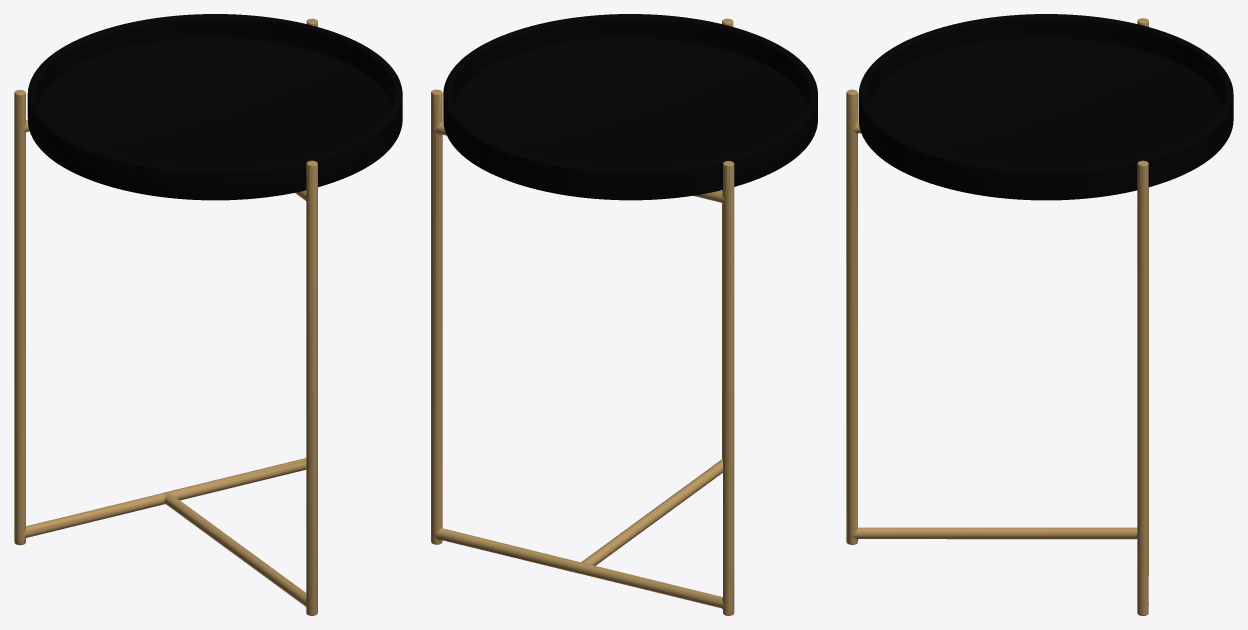
Rendered from dimensiva-oliver-tray-table-by-evie-group.optimized.glb.
The picture shows the model from 3 angles, left to right: view 1: azimuth 30°, elevation 25°; view 2: azimuth 150°, elevation 25°; view 3: azimuth 270°, elevation 25°; orthographic projection.
Visible parts, largest first — view 1: Oliver Tray Table; view 2: Oliver Tray Table; view 3: Oliver Tray Table.
Part boxes in pixels (x1,y1,x2,y2): Oliver Tray Table: (14,14,402,615); Oliver Tray Table: (431,14,817,615); Oliver Tray Table: (846,14,1233,615).
Bounding box in the file's own units: 0.347 × 0.4607 × 0.3583.
